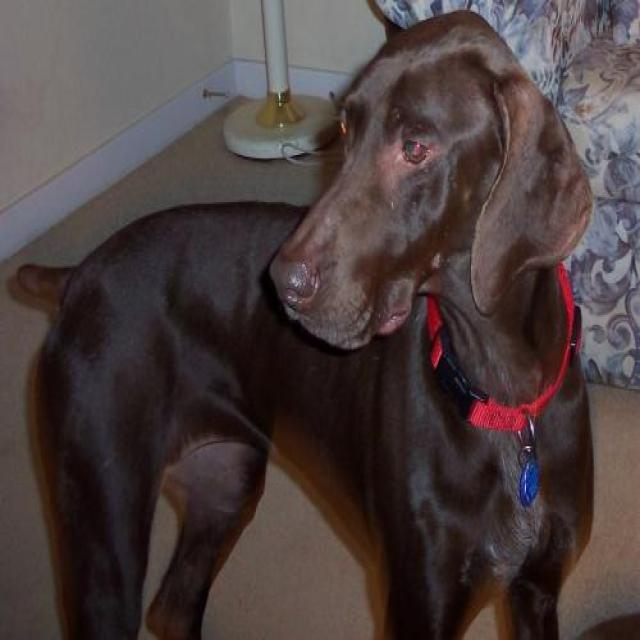Dogs: (8, 2, 598, 638)
